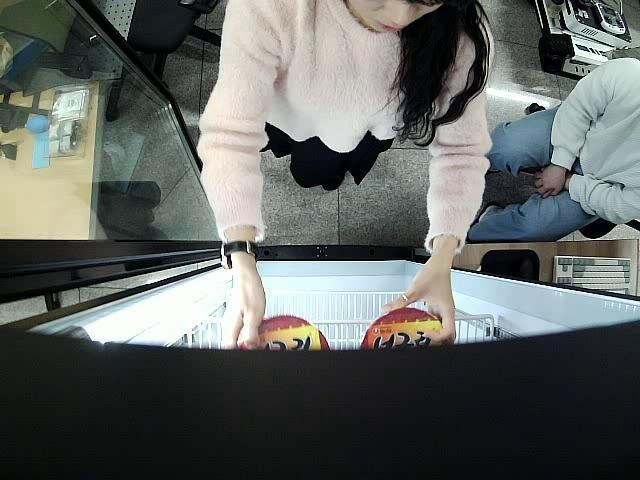05_nuguri_L: (359, 306, 452, 355), (243, 310, 330, 357)
